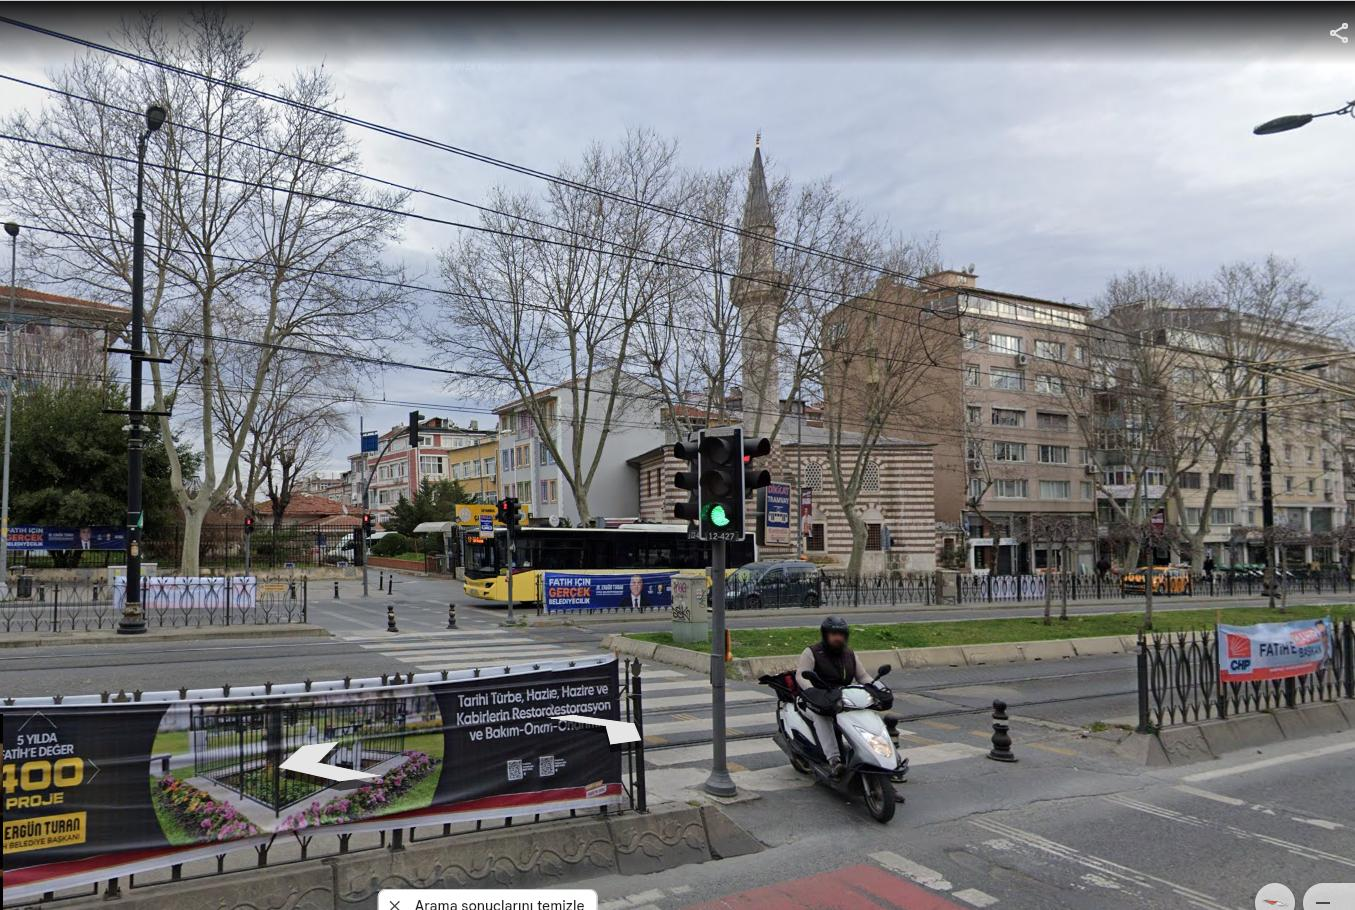greenlight: (696, 436, 743, 532)
